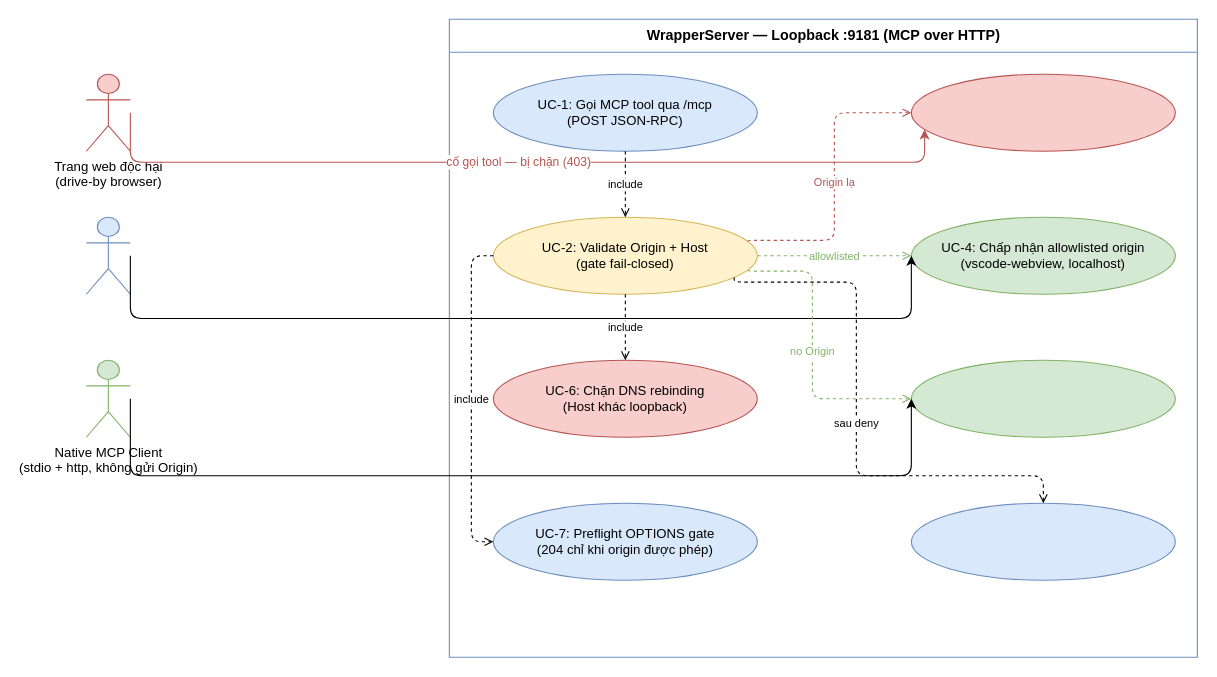
Image size: 1217x677. Some labels were removed from this diagram. Here are the shapes that lost their labels. From the top down, the centre of each, then its label:
(1042,112): UC-3: Từ chối origin không-được-phép (403, không set ACAO)
(107,255): IDE Webview (vscode-webview://*)
(1042,398): UC-5: Chấp nhận native client (không có Origin header)
(1042,541): UC-8: Ghi deny log sanitized (chống log-forging)
